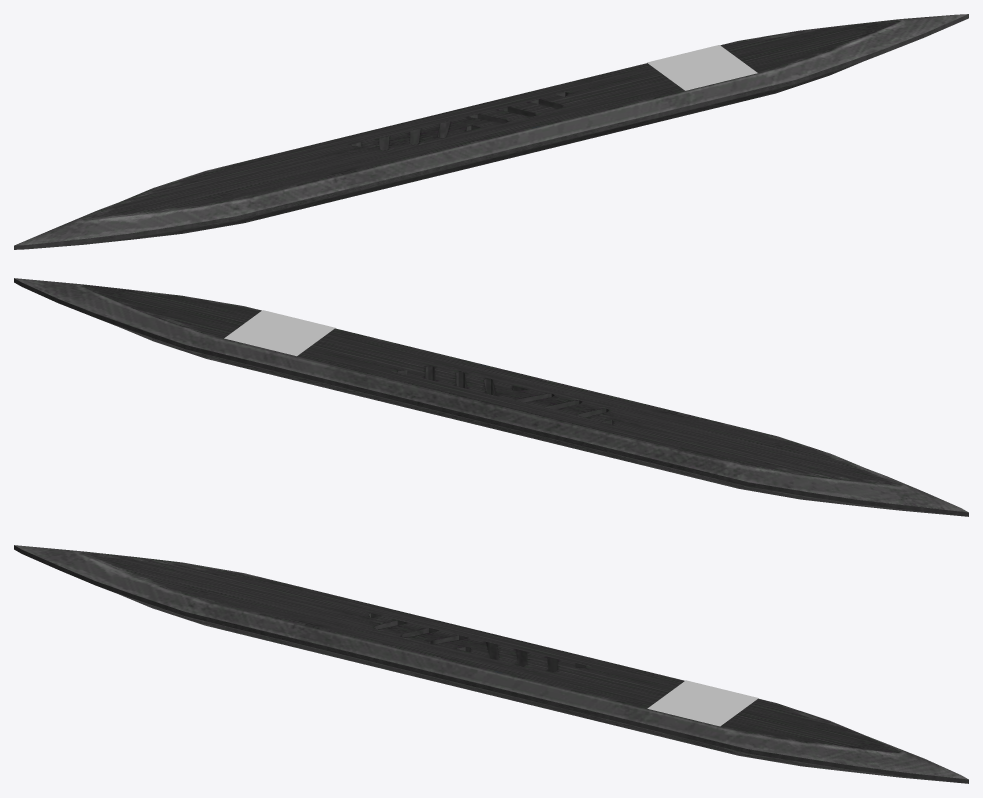
Rendered from t6_wpn_ballistic_knife_blade_view_LOD0.obj.
The picture shows the model from 3 angles, top to bottom: view 1: azimuth 30°, elevation 25°; view 2: azimuth 150°, elevation 25°; view 3: azimuth 330°, elevation 25°; orthographic projection.
Visible parts, largest first — view 1: mtl_t6_wpn_ballistic_knife_camo1, mtl_t6_wpn_ballistic_knife_camo2, mtl_player_icon; view 2: mtl_t6_wpn_ballistic_knife_camo1, mtl_t6_wpn_ballistic_knife_camo2, mtl_player_icon; view 3: mtl_t6_wpn_ballistic_knife_camo1, mtl_t6_wpn_ballistic_knife_camo2, mtl_player_icon.
Boxes of the visible parts, x1,y1,x2,y2 form: mtl_t6_wpn_ballistic_knife_camo1: (14,14,968,249); mtl_t6_wpn_ballistic_knife_camo2: (14,14,968,248); mtl_player_icon: (647,45,757,90); mtl_t6_wpn_ballistic_knife_camo1: (14,278,968,516); mtl_t6_wpn_ballistic_knife_camo2: (14,278,968,516); mtl_player_icon: (224,310,335,356); mtl_t6_wpn_ballistic_knife_camo1: (14,545,968,783); mtl_t6_wpn_ballistic_knife_camo2: (14,545,968,783); mtl_player_icon: (647,680,758,726).
Bounding box in the file's own units: 36.87 × 0.9117 × 3.33.
